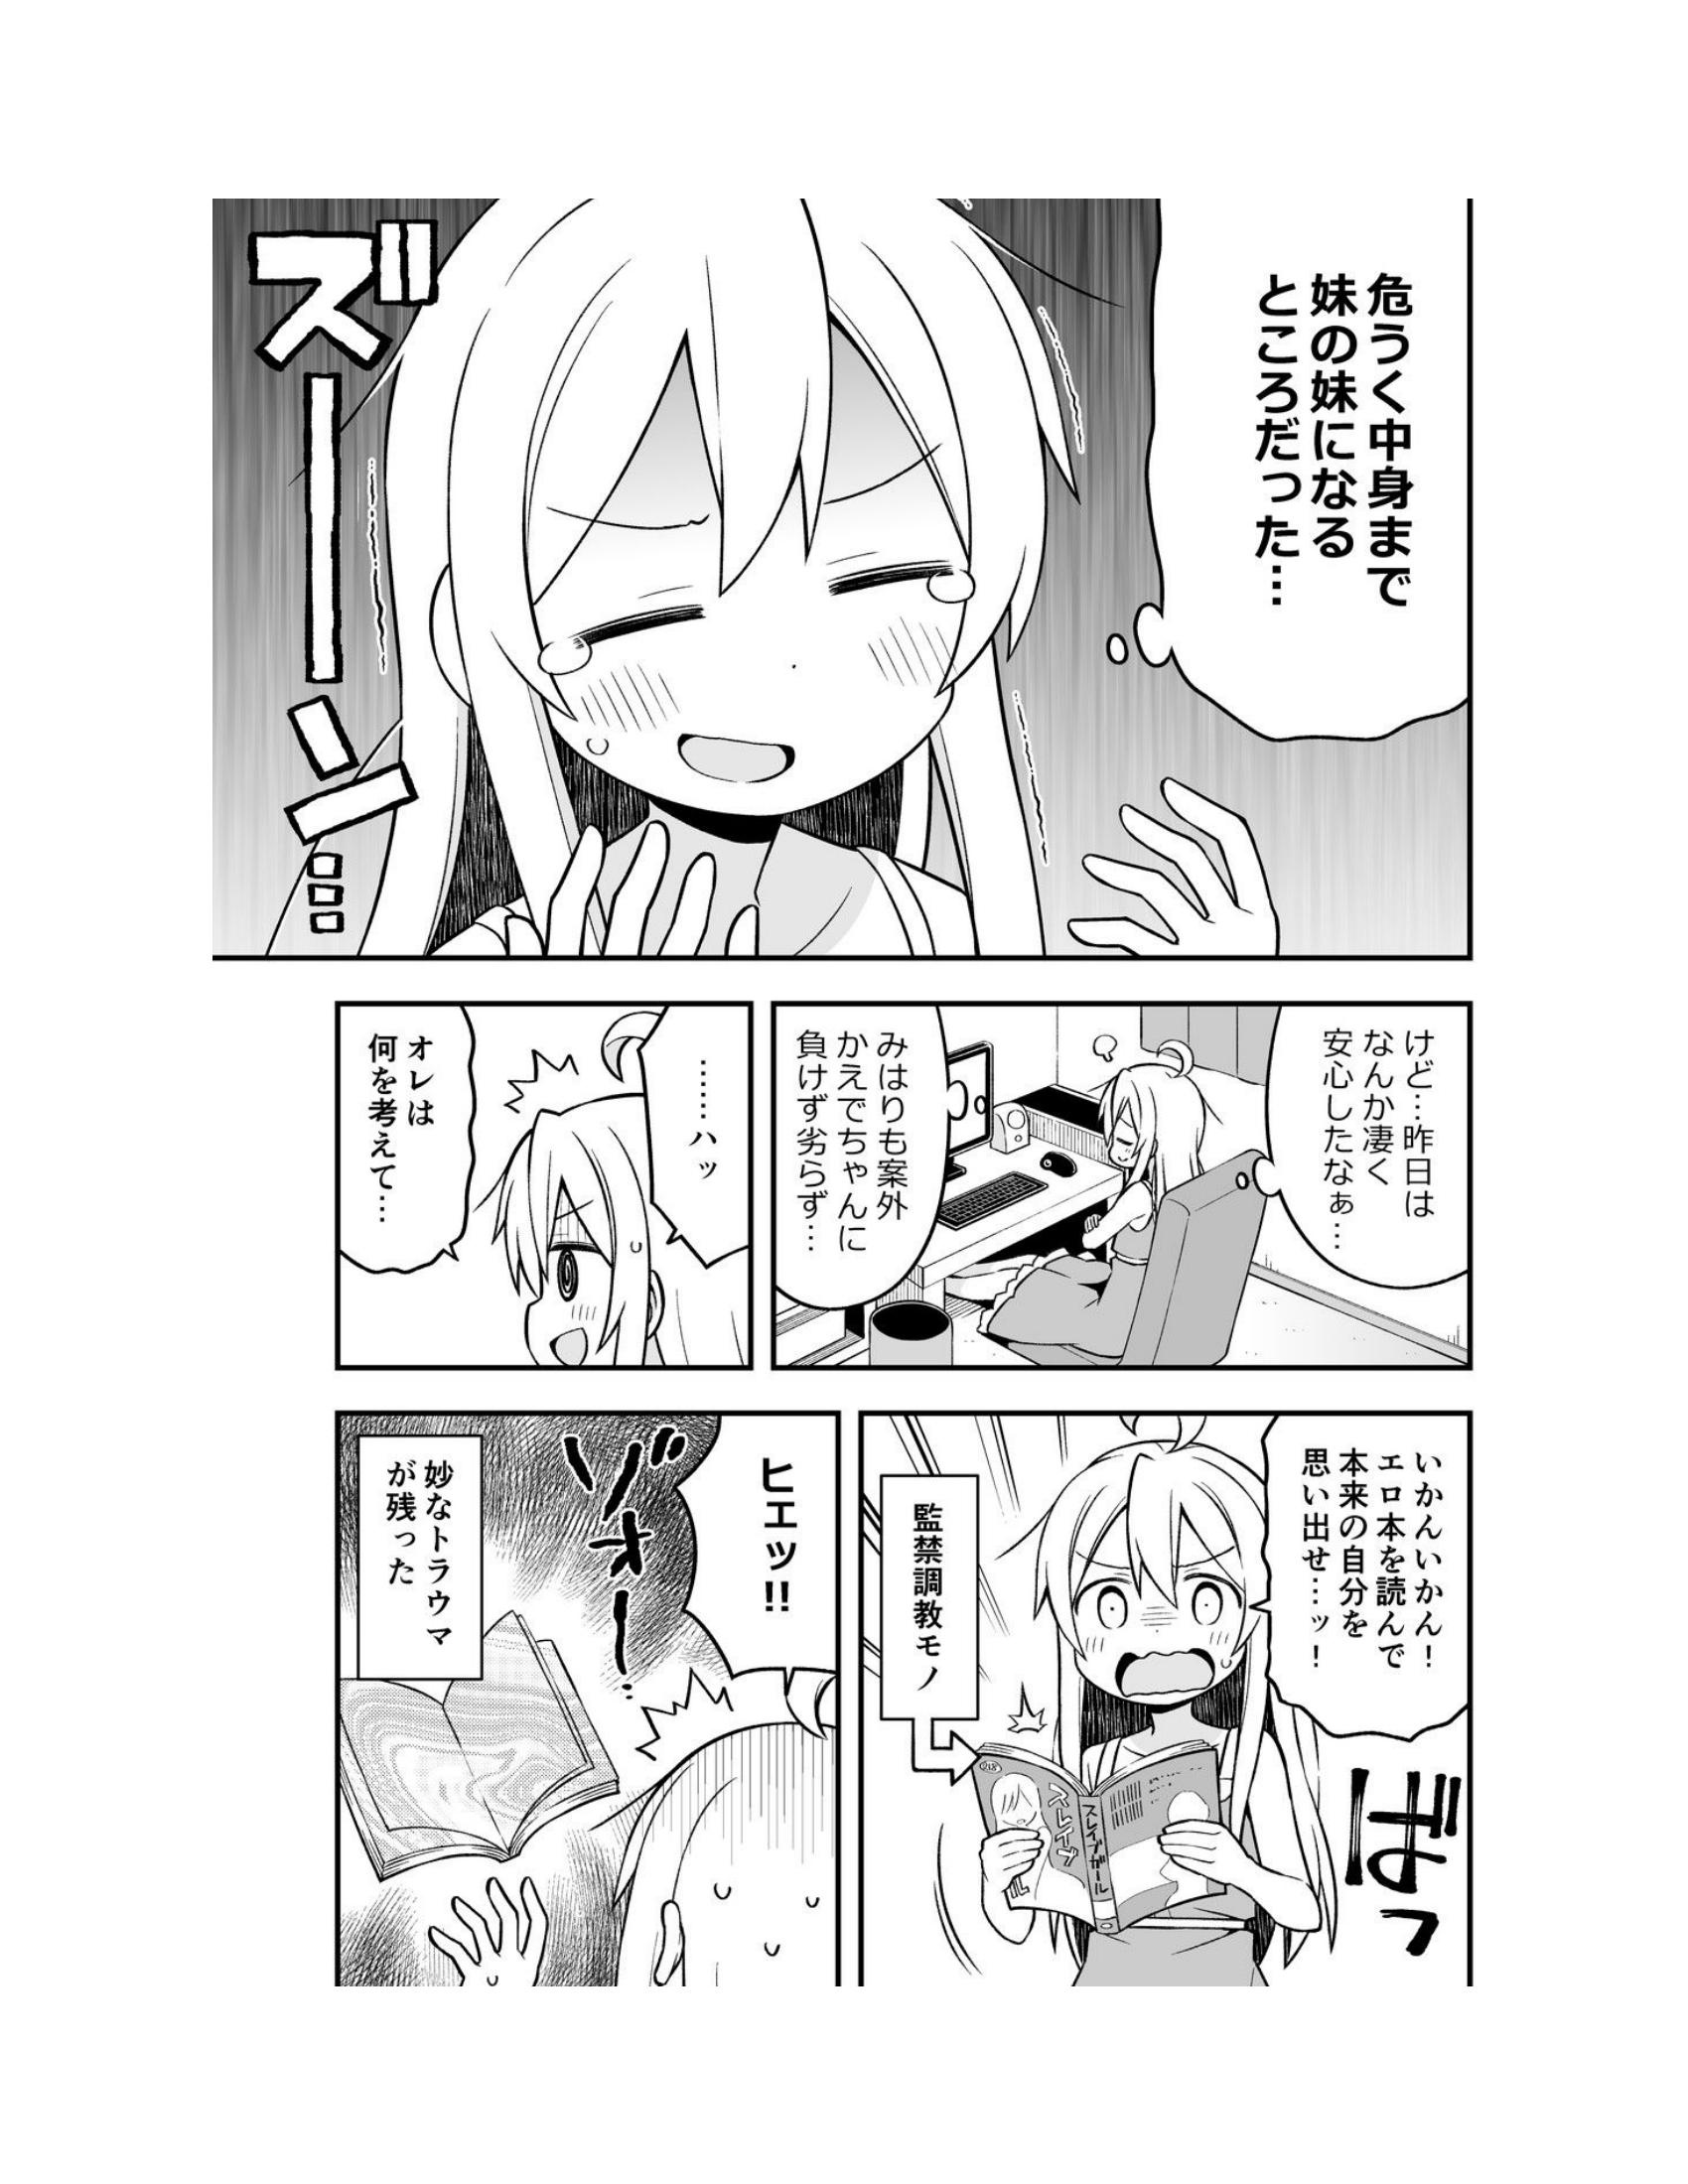a: (1163, 191, 1507, 764), (1231, 1400, 1473, 1750), (770, 996, 968, 1315), (1250, 1000, 1466, 1273), (665, 1416, 860, 1689), (335, 996, 504, 1296), (346, 1420, 523, 1693), (864, 1434, 1009, 1757)
